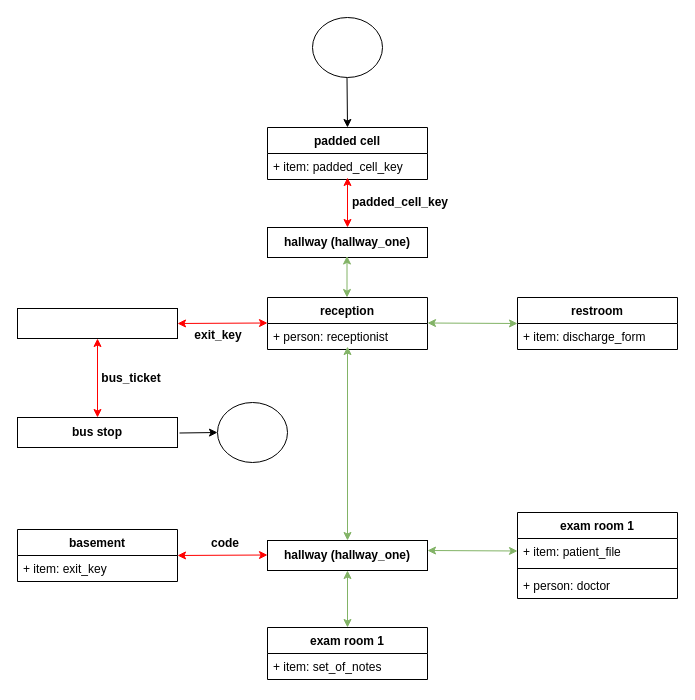
This 695x700 diagram has some shape labels left out. The shapes that lost their labels are listed below. From the top down, each one's centre as x and y in pixels, then its label:
(x=347, y=47): START
(x=97, y=323): exit
(x=252, y=432): END
